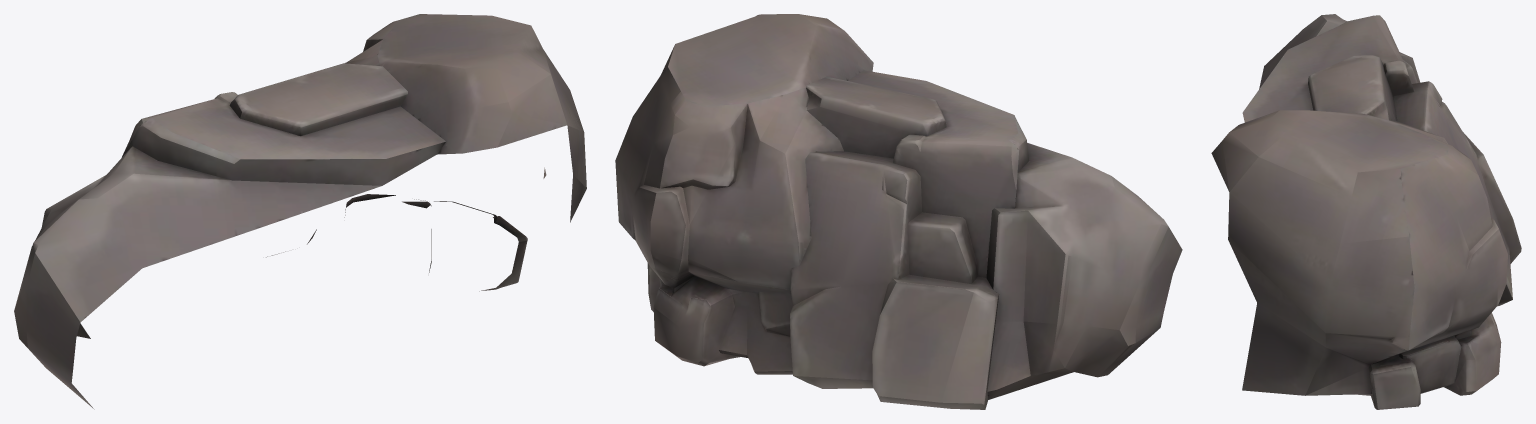
The picture shows the model from 3 angles, left to right: view 1: azimuth 30°, elevation 25°; view 2: azimuth 150°, elevation 25°; view 3: azimuth 270°, elevation 25°; orthographic projection. The views are drawn at different scales.
Parts seen in each view (by area): view 1: body0_model0_lod0_mesh0; view 2: body0_model0_lod0_mesh0; view 3: body0_model0_lod0_mesh0.
Part boxes in pixels (x1,y1,x2,y2): body0_model0_lod0_mesh0: [14, 14, 586, 409]; body0_model0_lod0_mesh0: [615, 14, 1182, 409]; body0_model0_lod0_mesh0: [1211, 14, 1521, 409].
Size of the model in its own units: 454 by 230 by 244.
Materials: 1 (1 with a texture image).
